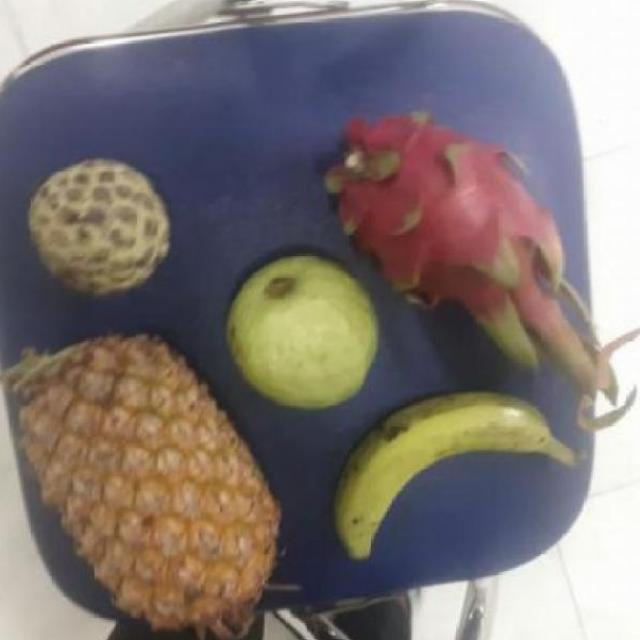dragon fruit: (328, 103, 568, 317)
guava: (225, 250, 388, 404)
pineapple: (13, 342, 286, 630)
sugar apple: (26, 160, 178, 296)
